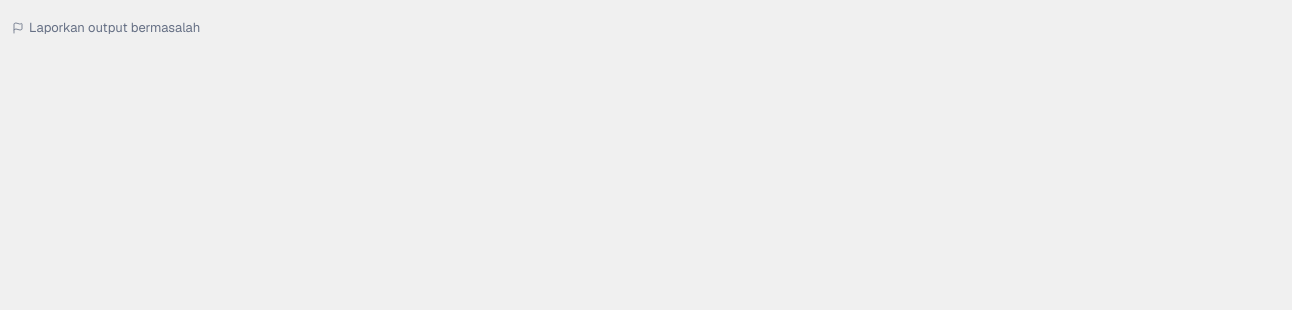
Test: report problematic output › sends only the trace id, the chosen category and the note
The width and height of the screenshot is (1292, 310).
Click the button "Laporkan output bermasalah" at (106, 28), box left=12, top=16, right=200, bottom=40
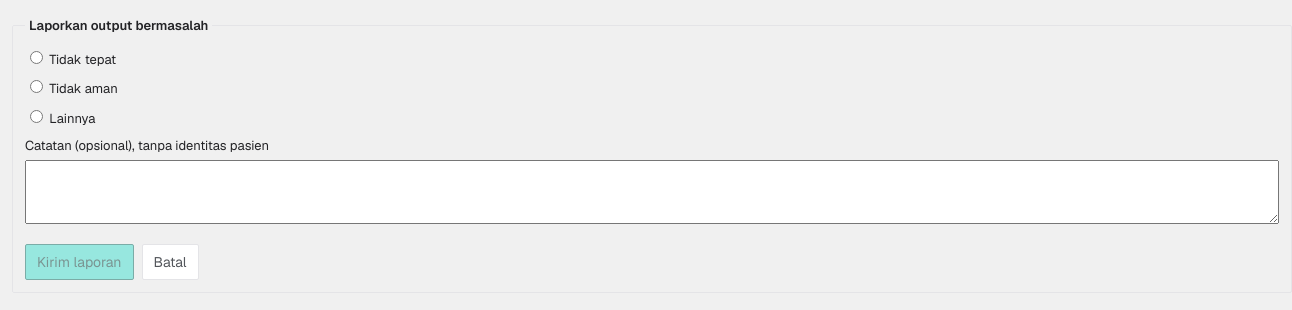
expect the button "Kirim laporan" is disabled: met, box left=25, top=244, right=134, bottom=280
Click the radio button labelled "Tidak aman" at (36, 86), box left=30, top=80, right=43, bottom=93
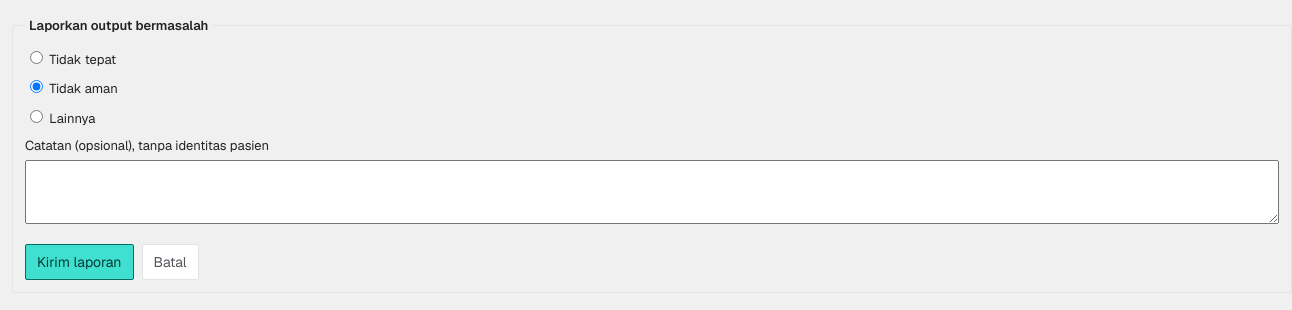
Type "Interaksi obat tidak disebut." into the text box at (652, 192), box left=25, top=160, right=1279, bottom=224
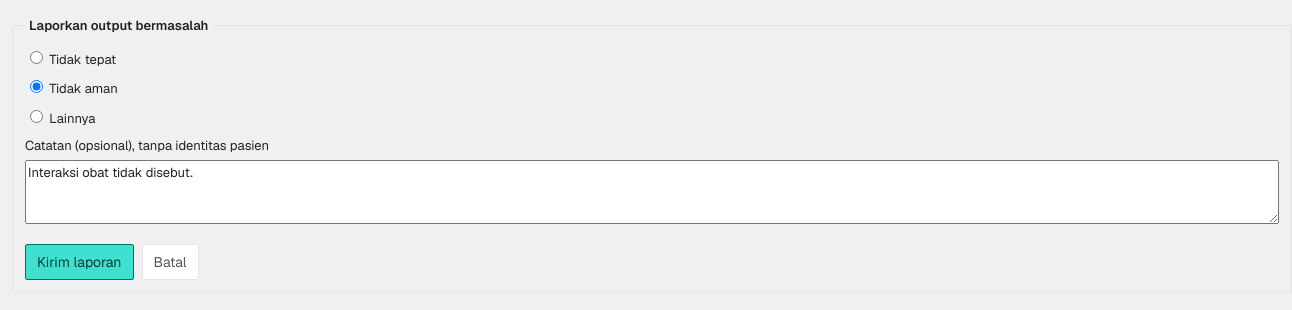
Click the button "Kirim laporan" at (79, 262), box left=25, top=244, right=134, bottom=280
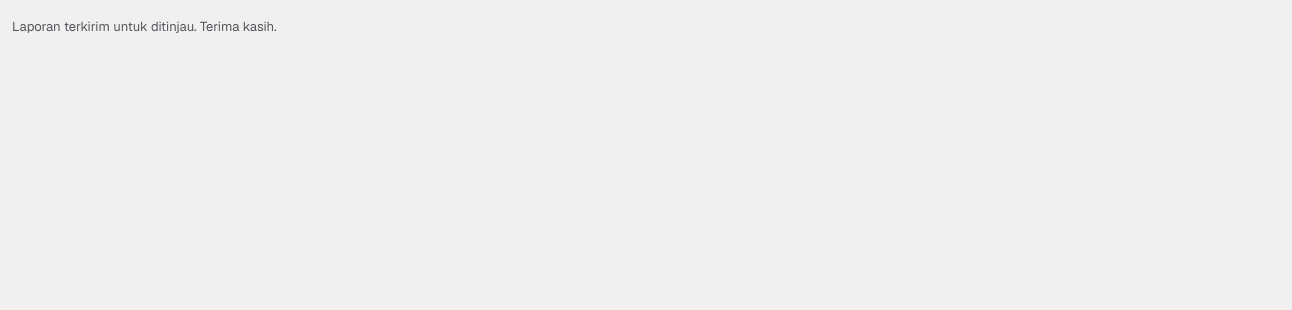
expect the text "Laporan terkirim untuk ditinjau. Terima kasih." is shown: met, box left=12, top=18, right=277, bottom=35
